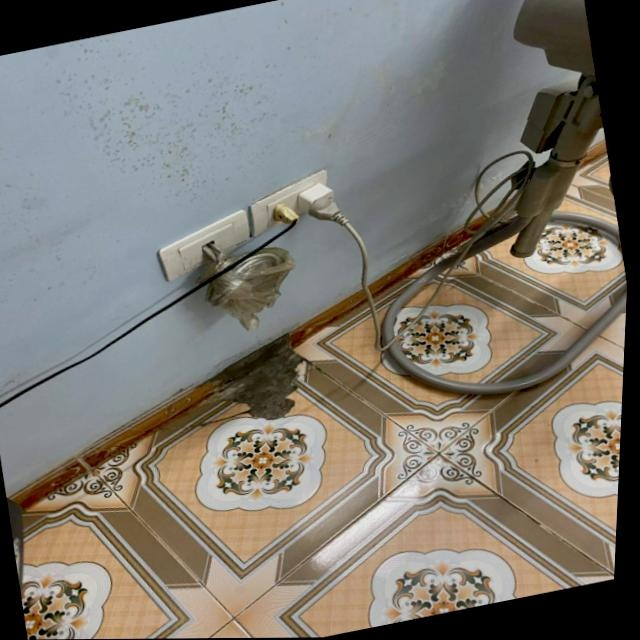outlet: (150, 208, 257, 284), (242, 167, 339, 239)
